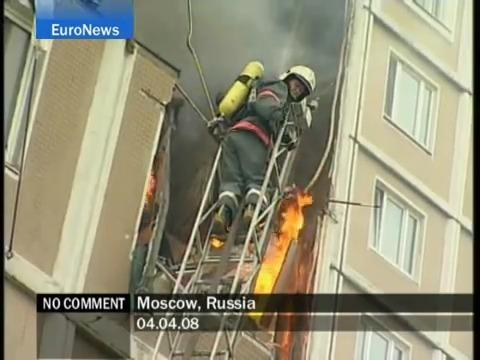fire: (253, 193, 317, 295), (145, 171, 160, 206), (210, 234, 224, 250)
